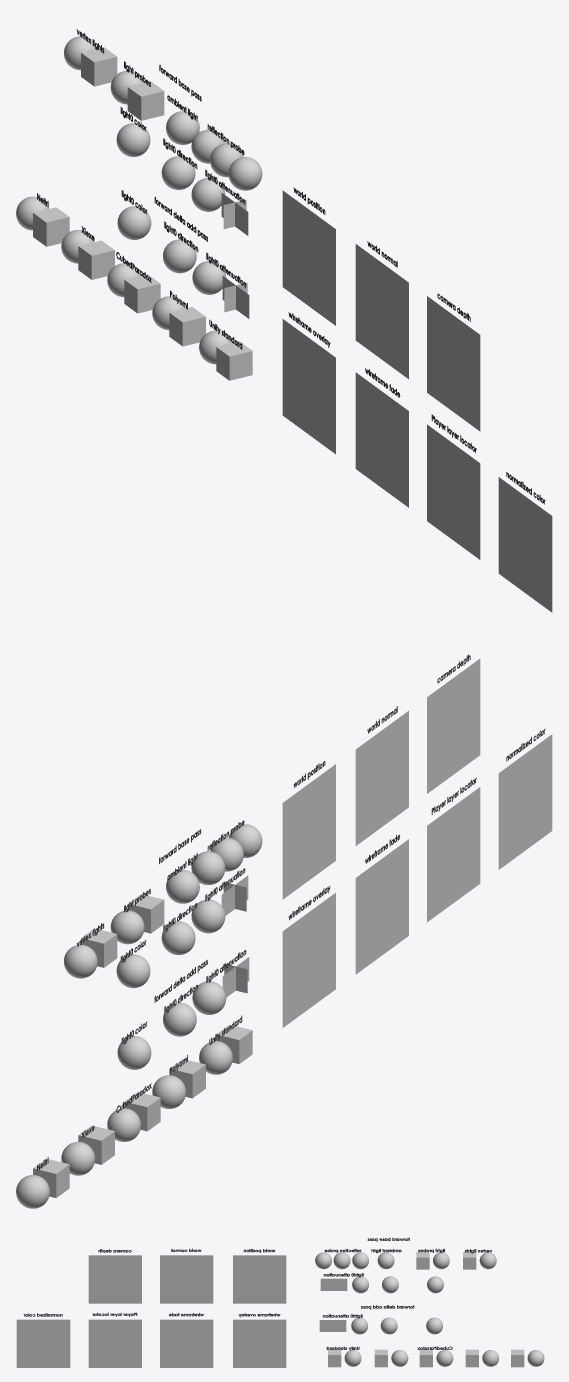
Rendered from Shader Debug Mesh.fbx.
3 views of the same model, one above another, from view 1: azimuth 30°, elevation 25°; view 2: azimuth 150°, elevation 25°; view 3: azimuth 270°, elevation 25° (orthographic). The views are drawn at different scales.
Visible parts, largest first — view 1: Shader Debug; view 2: Shader Debug; view 3: Shader Debug.
Part boxes in pixels (left/top/right/bottom): Shader Debug: left=16, top=29, right=552, bottom=612; Shader Debug: left=16, top=654, right=552, bottom=1208; Shader Debug: left=16, top=1237, right=544, bottom=1367.
Bounding box in the file's own units: 7.65 × 65.16 × 244.
